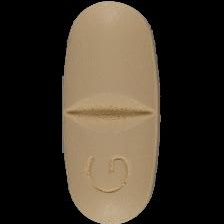68462-139: (0, 0, 224, 224)
